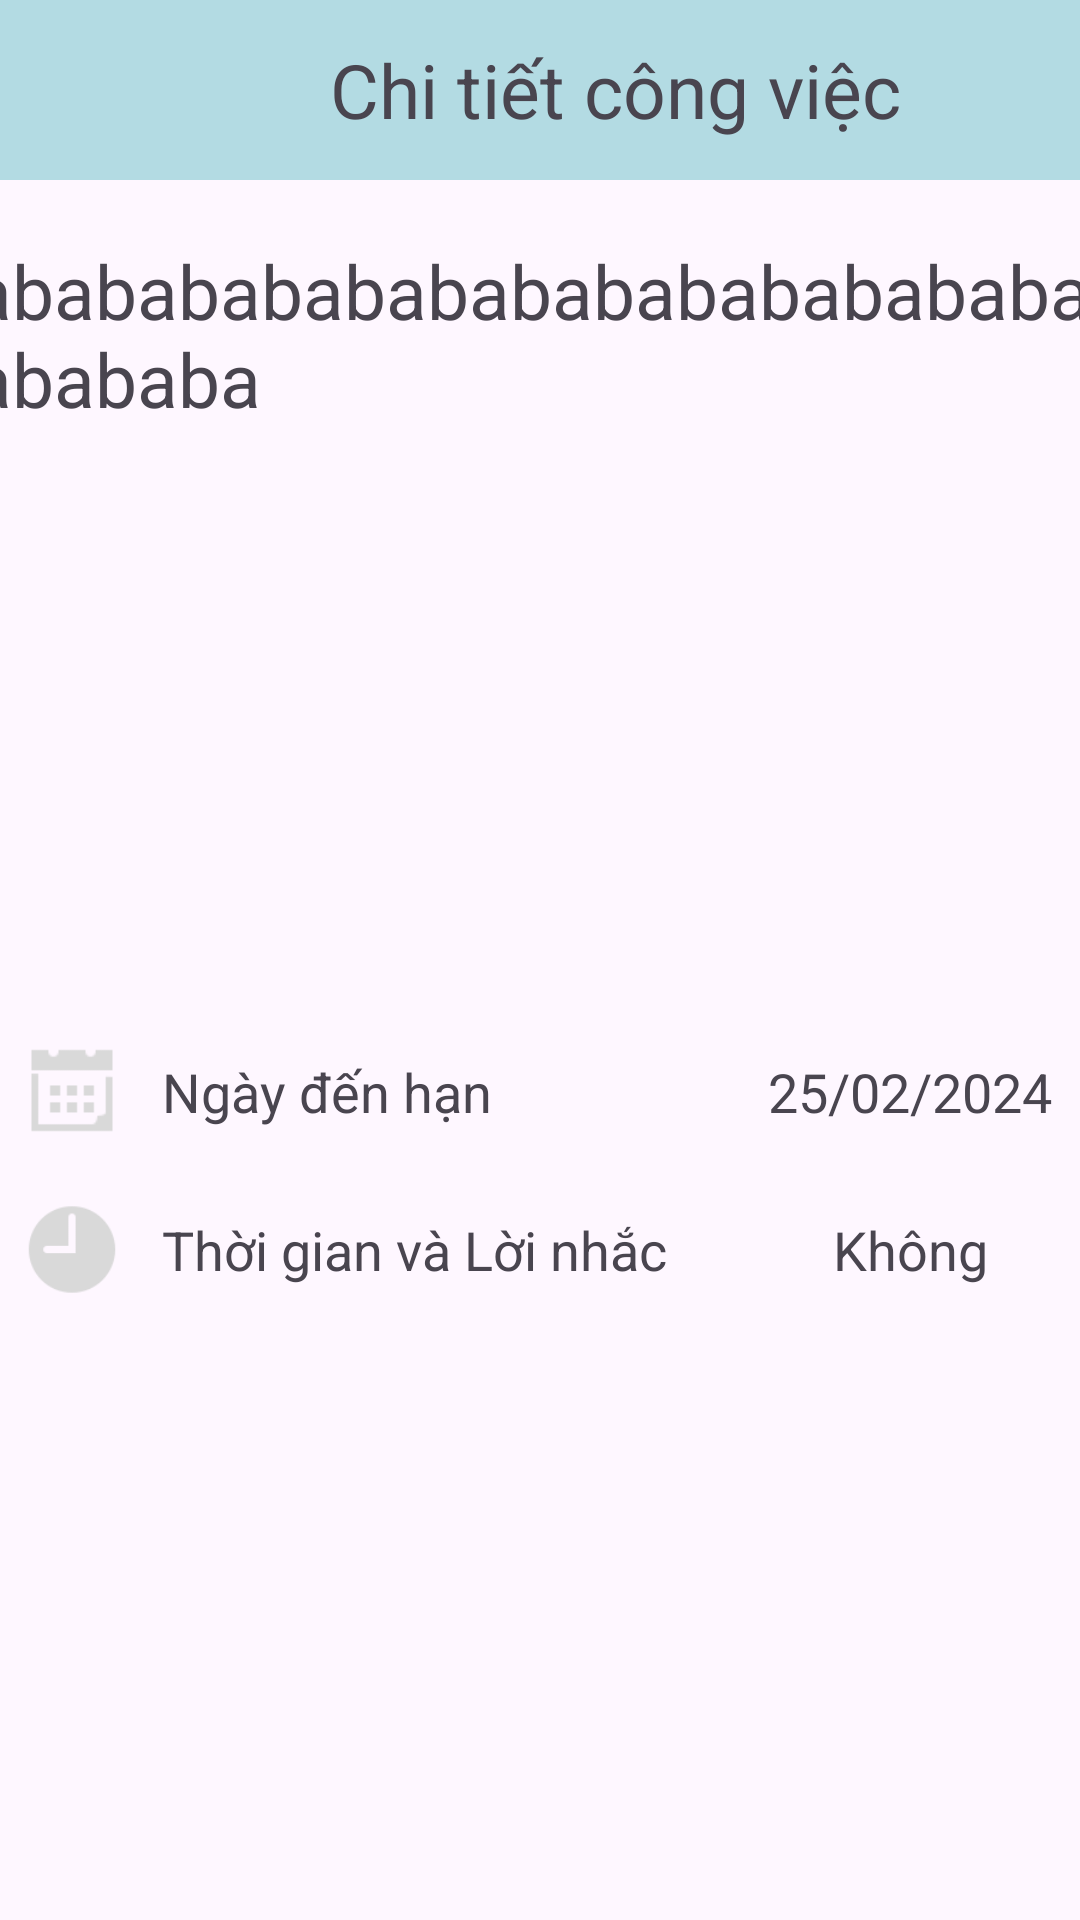

Screen size 1080px×1920px. Icon name, then its center in pixels as (x,y):
calendar: (72,1090)
clock: (72,1249)
